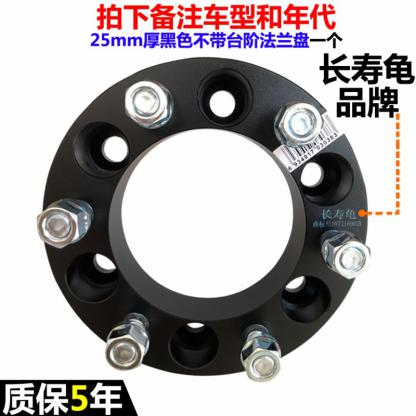FOD: (36, 51, 373, 378)
